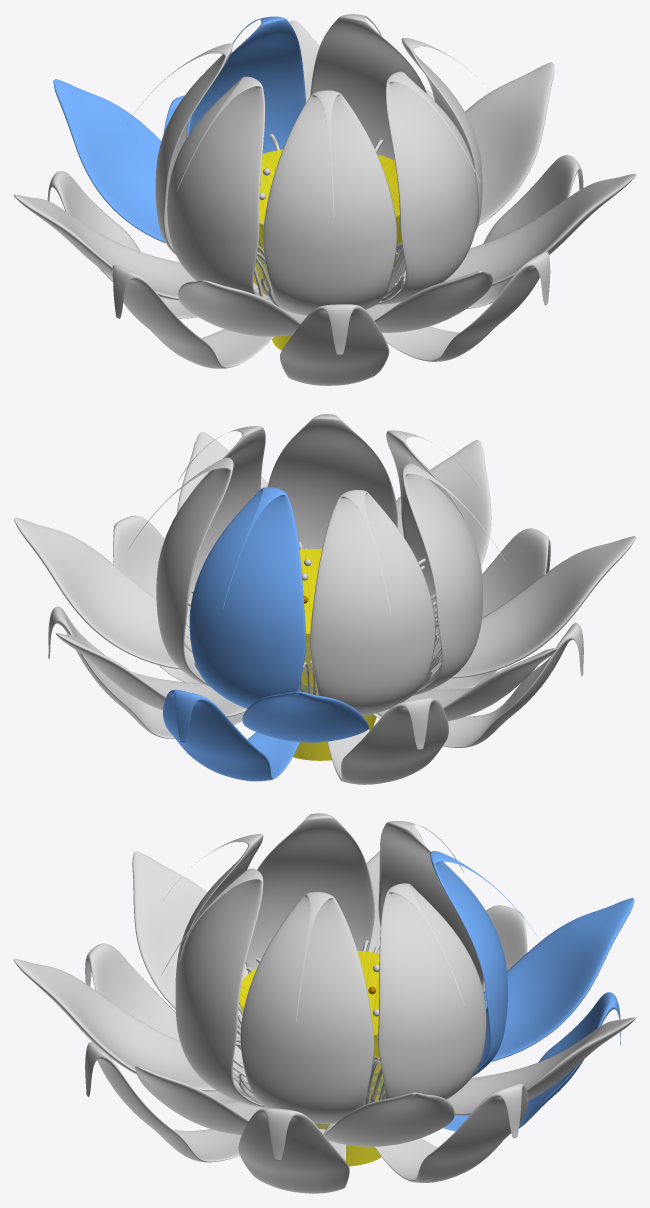
File: lotus status1.fbx
3 renders of one model, top to bottom at view 1: azimuth 30°, elevation 25°; view 2: azimuth 150°, elevation 25°; view 3: azimuth 270°, elevation 25°, orthographic. The views are drawn at different scales.
Visible parts, largest first — view 1: Лофт_NURBS_4, Лофт_NURBS_5, Лофт_NURBS_3, Лофт_NURBS_0_2, Лофт_NURBS_2_2, Лофт_NURBS_1, Лофт_NURBS_0, Лофт_NURBS_4_3, Лофт_NURBS_3_2, Лофт_NURBS_5_3, Лофт_NURBS_3_3, Лофт_NURBS_6_2 (+8 smaller); view 2: Лофт_NURBS_6, Лофт_NURBS_0, Лофт_NURBS_5, Лофт_NURBS_3, Лофт_NURBS_2_2, Лофт_NURBS_5_2, Лофт_NURBS_1, Лофт_NURBS_6_3, Лофт_NURBS_0_3, Лофт_NURBS_0_2, Лофт_NURBS_4_3, Лофт_NURBS_2 (+9 smaller); view 3: Лофт_NURBS_2, Лофт_NURBS_1, Лофт_NURBS_3, Лофт_NURBS_5, Лофт_NURBS_0_2, Лофт_NURBS_4_2, Лофт_NURBS_2_3, Лофт_NURBS_1_3, Лофт_NURBS_5_2, Лофт_NURBS_0, Лофт_NURBS_2_2, Лофт_NURBS_6 (+9 smaller).
Boxes of the visible parts, x1,y1,x2,y2 form: Лофт_NURBS_4: (263,90,397,315); Лофт_NURBS_5: (167,76,269,298); Лофт_NURBS_3: (376,71,480,304); Лофт_NURBS_0_2: (53,79,263,263); Лофт_NURBS_2_2: (465,62,554,225); Лофт_NURBS_1: (310,14,427,160); Лофт_NURBS_0: (189,16,305,153); Лофт_NURBS_4_3: (280,304,389,385); Лофт_NURBS_3_2: (393,173,635,286); Лофт_NURBS_5_3: (112,265,273,368); Лофт_NURBS_3_3: (382,251,550,361); Лофт_NURBS_6_2: (14,194,263,300); Лофт_NURBS_6: (310,489,435,715); Лофт_NURBS_0: (189,487,312,708); Лофт_NURBS_5: (402,463,505,695); Лофт_NURBS_3: (267,414,398,671); Лофт_NURBS_2_2: (14,517,190,669); Лофт_NURBS_5_2: (432,536,635,678); Лофт_NURBS_1: (128,457,303,689); Лофт_NURBS_6_3: (327,697,448,784); Лофт_NURBS_0_3: (163,689,299,781); Лофт_NURBS_0_2: (242,691,368,742); Лофт_NURBS_4_3: (432,528,550,689); Лофт_NURBS_2: (178,426,312,676); Лофт_NURBS_2: (240,892,374,1123); Лофт_NURBS_1: (369,883,486,1101); Лофт_NURBS_3: (161,868,264,1107); Лофт_NURBS_5: (245,813,374,973); Лофт_NURBS_0_2: (484,898,634,1061); Лофт_NURBS_4_2: (14,959,249,1091); Лофт_NURBS_2_3: (238,1108,349,1193); Лофт_NURBS_1_3: (374,1083,527,1182); Лофт_NURBS_5_2: (132,851,248,1009); Лофт_NURBS_0: (370,851,537,1094); Лофт_NURBS_2_2: (323,1092,454,1146); Лофт_NURBS_6: (372,821,483,1081).
Size of the model in its own units: 499 by 253 by 488.
